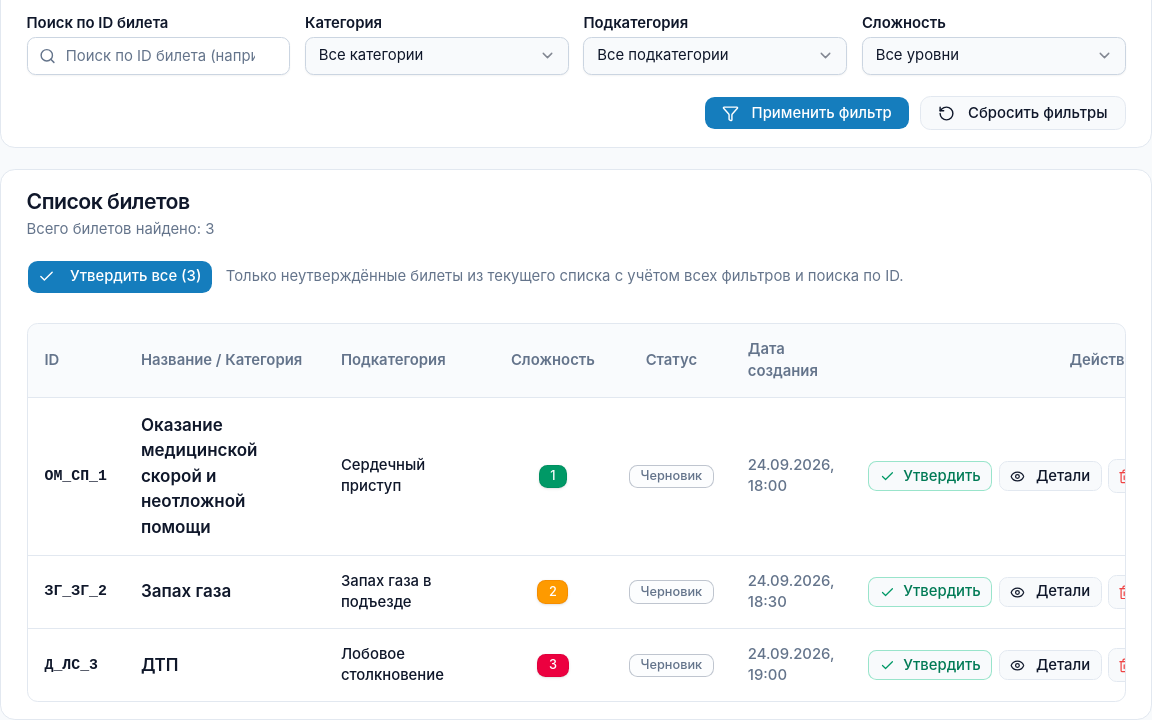
Test: 27.2 / ТЗ 30: База билетов и генерация › ТЗ 37.1: Category and Subcategory in edit modal are dropdowns, and changing Category resets Subcategory and fetches new options
(page scrolled)
Expected: the table shows "ДТП", top-left (141, 654), bottom-right (178, 674)
Note: Open third ticket (ДТП / Лобовое столкновение)
Click the button "Детали" in the row of "Д_ЛС_3" at [1050, 665], box top-left (999, 650), bottom-right (1102, 680)
(page scrolled)
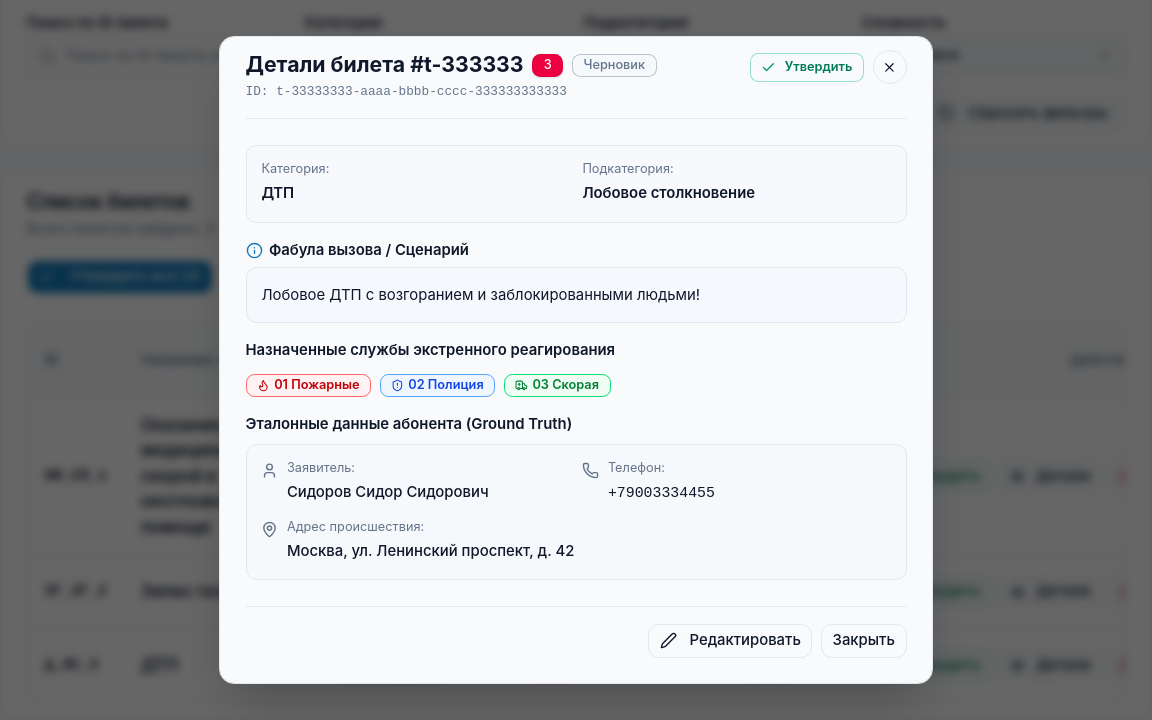
Now the dialog is shown
Note: Click Edit inside dialog
Click the button "Редактировать" at [730, 641], box top-left (648, 624), bottom-right (812, 658)
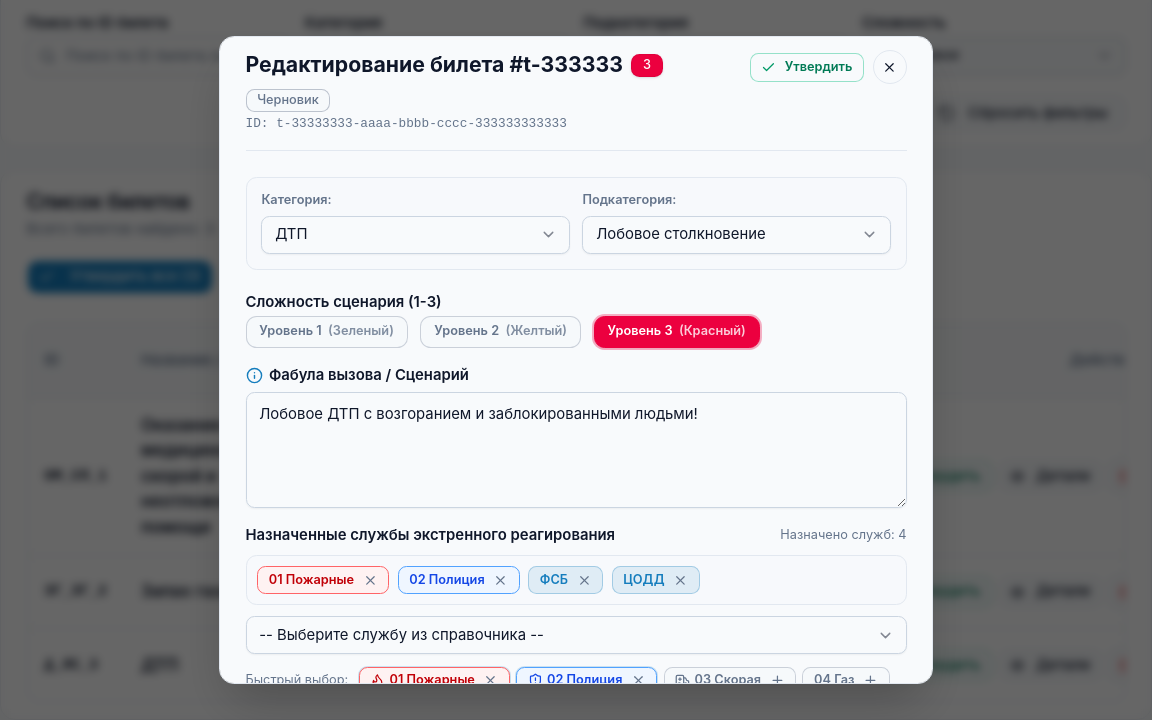
Now the dropdown labelled "Категория:" shows "ДТП"
Now the dropdown labelled "Подкатегория:" shows "Лобовое столкновение", box top-left (582, 216), bottom-right (891, 254)
Note: Change category to "Пожары и задымления"
Select "Пожары и задымления" in the dropdown labelled "Категория:" at [416, 235], box top-left (261, 216), bottom-right (570, 254)
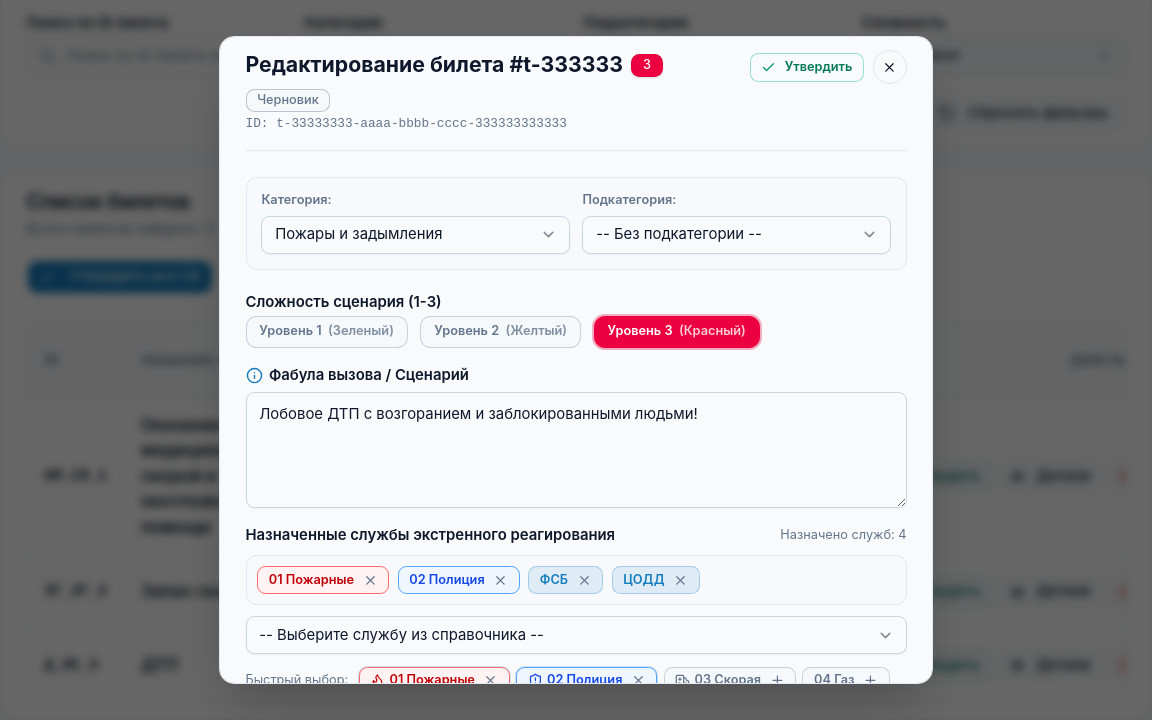
Now the dropdown labelled "Подкатегория:" shows "-- Без подкатегории --", box top-left (582, 216), bottom-right (891, 254)
